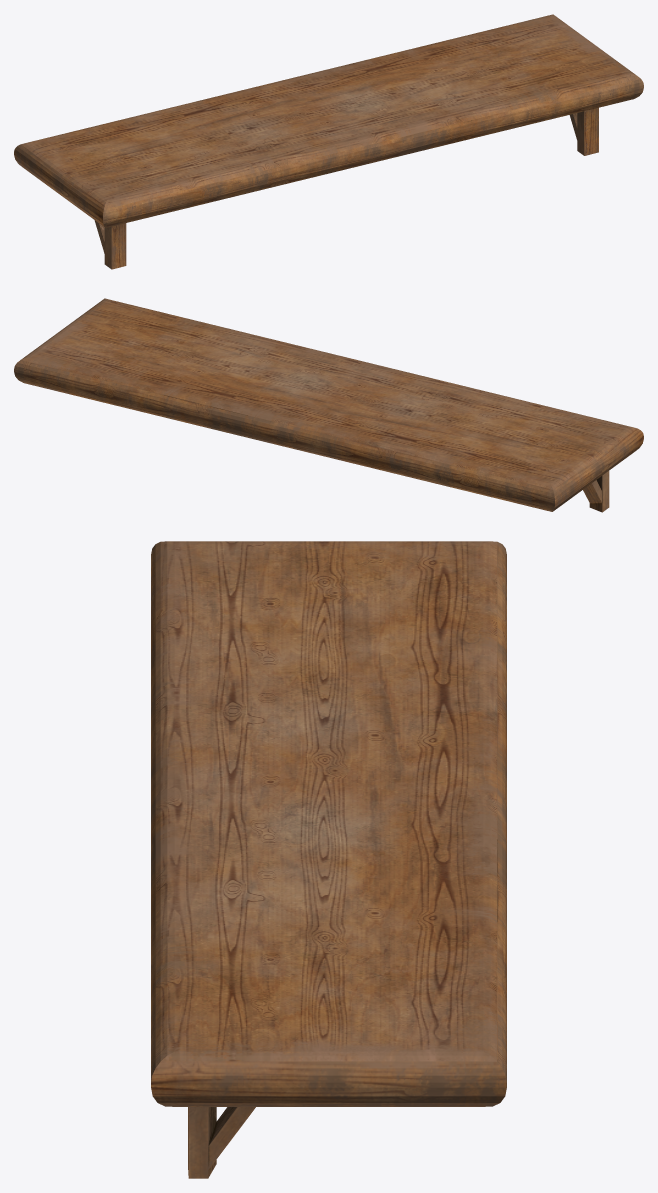
The model's file is wall_shelf.glb.
3 renders of one model, top to bottom at view 1: azimuth 30°, elevation 25°; view 2: azimuth 150°, elevation 25°; view 3: azimuth 270°, elevation 25°, orthographic. The views are drawn at different scales.
Parts seen in each view (by area): view 1: WallShelf:Mesh; view 2: WallShelf:Mesh; view 3: WallShelf:Mesh.
Part boxes in pixels (left/top/right/bottom): WallShelf:Mesh: left=14, top=14, right=643, bottom=269; WallShelf:Mesh: left=14, top=298, right=643, bottom=512; WallShelf:Mesh: left=151, top=541, right=506, bottom=1178.
Size of the model in its own units: 0.1065 by 0.0146 by 0.0303.
1 material, 1 textured.
